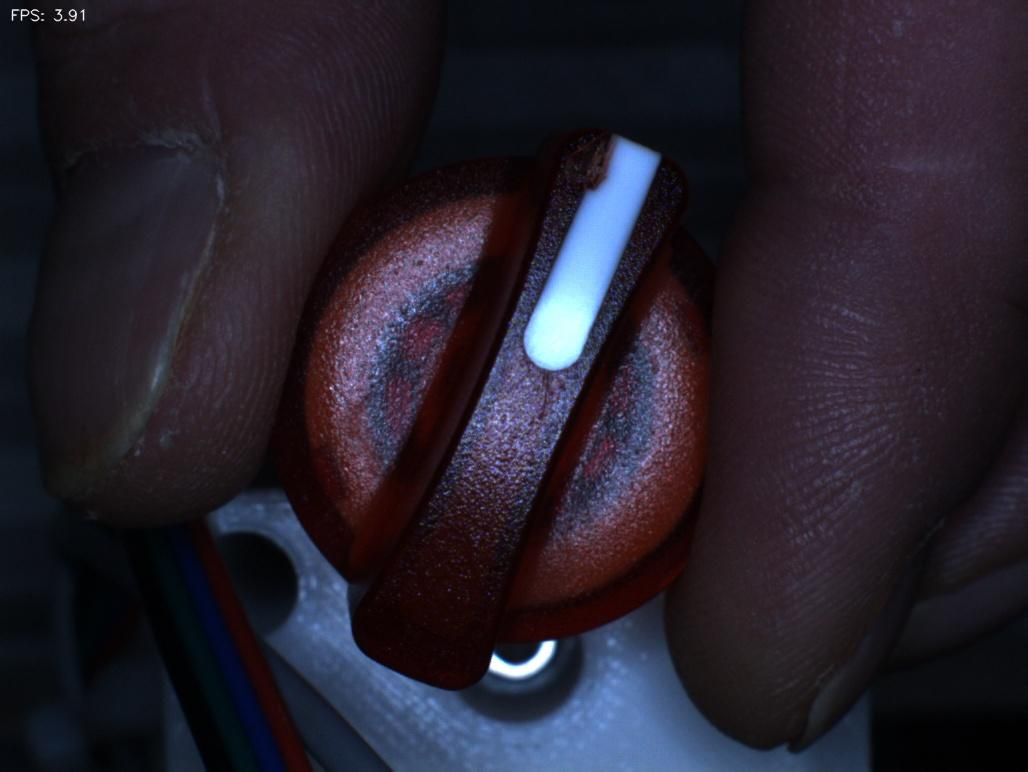Choc: (547, 113, 633, 211)
